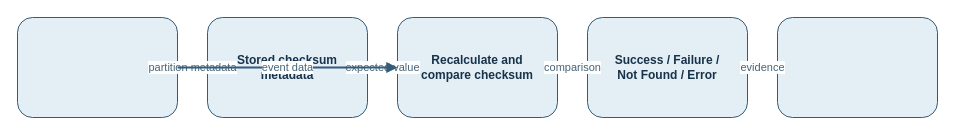
Image size: 955x135. Some labels were removed from this diagram. Each missing label, with the centre of its shape:
ClickHouse event partition / shard: the point at 97,67
Preserve partition ID and validation result: the point at 857,67
